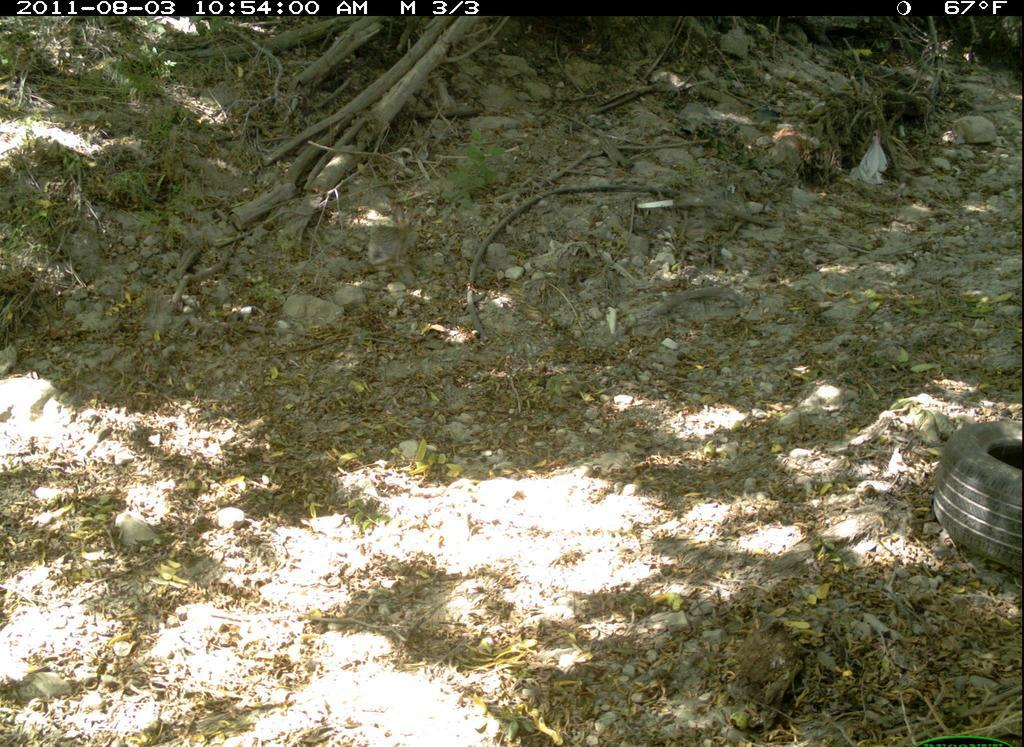rabbit: (354, 194, 441, 287)
